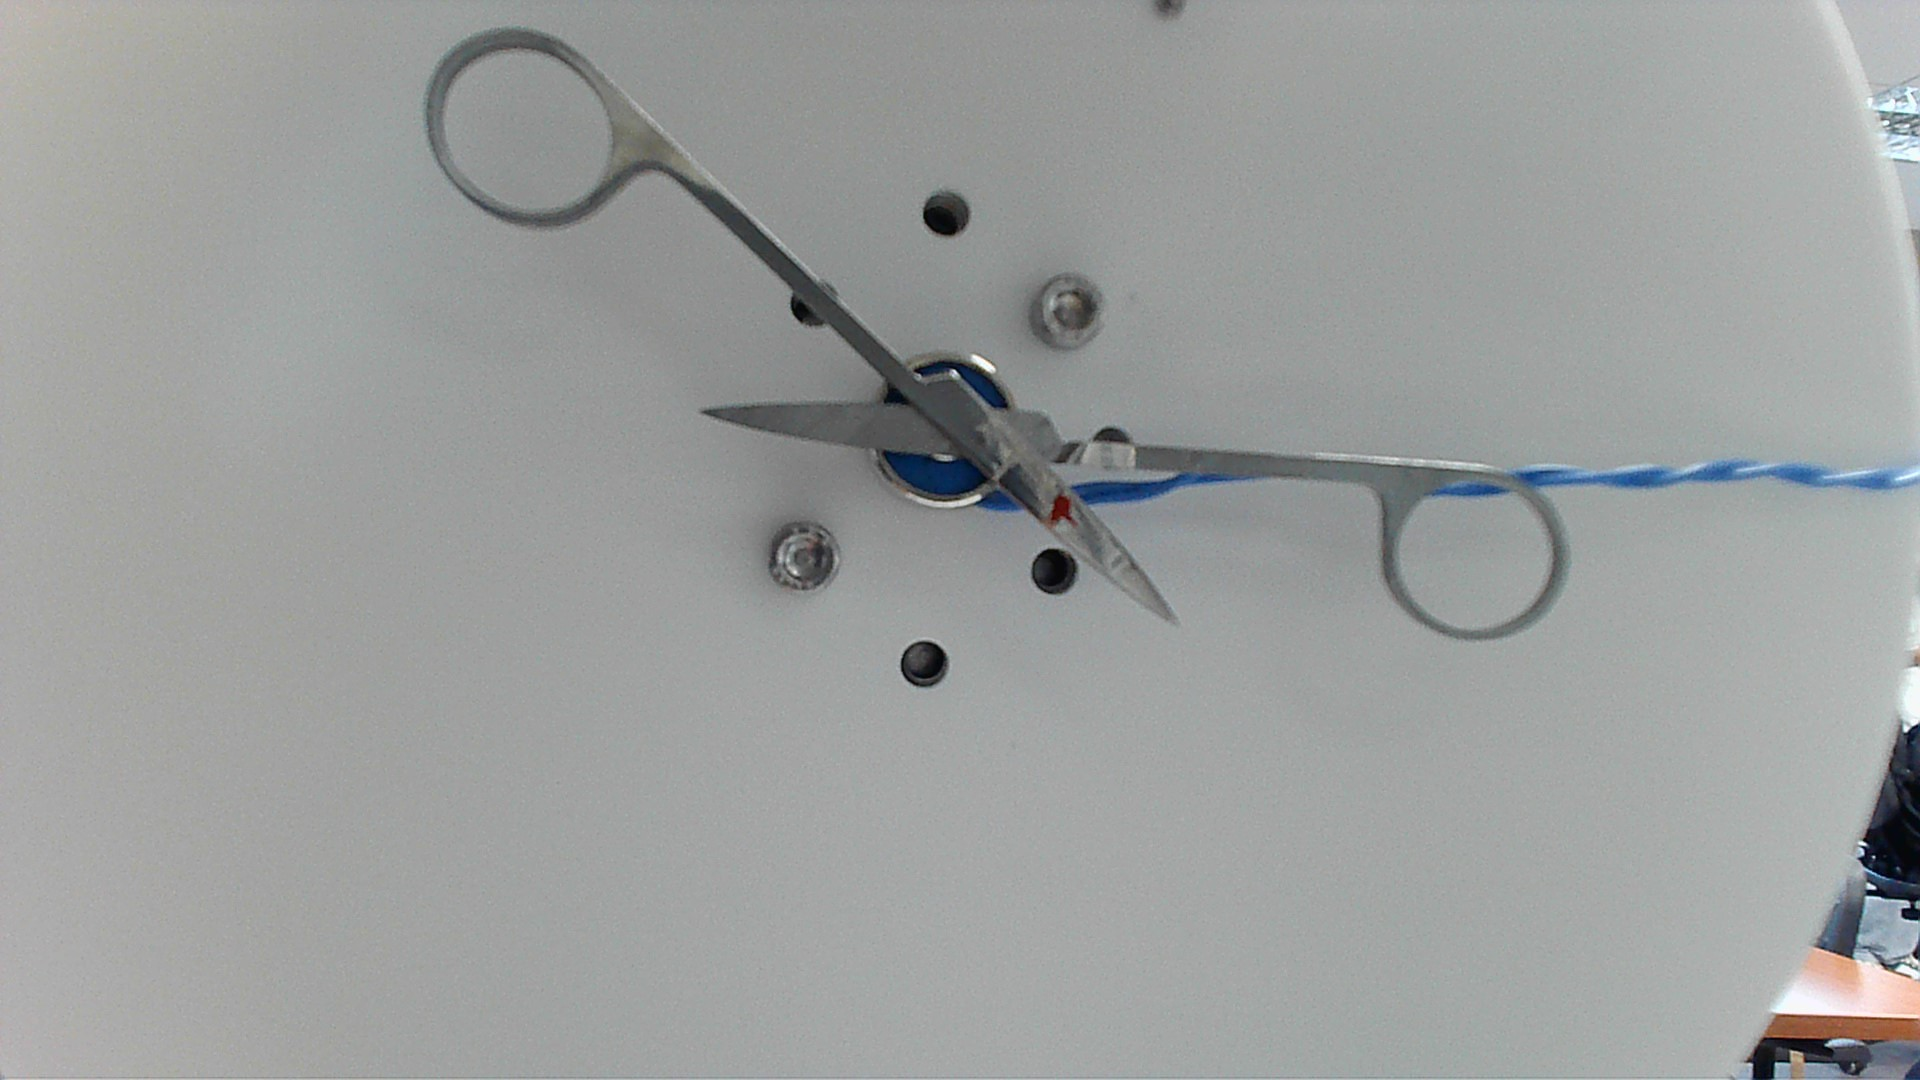Stain: (1043, 491, 1079, 526)
